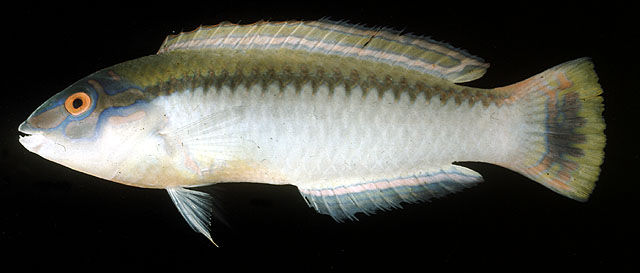fish: (18, 18, 606, 249)
